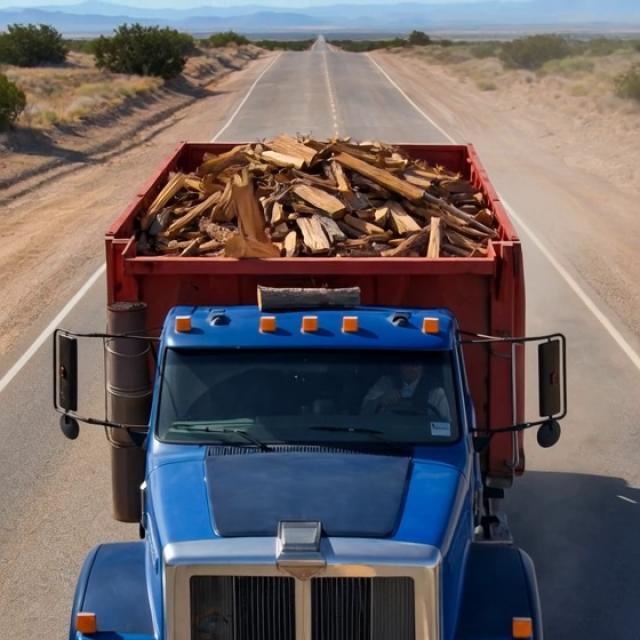trailer: (90, 137, 536, 272)
truck: (52, 102, 590, 636)
